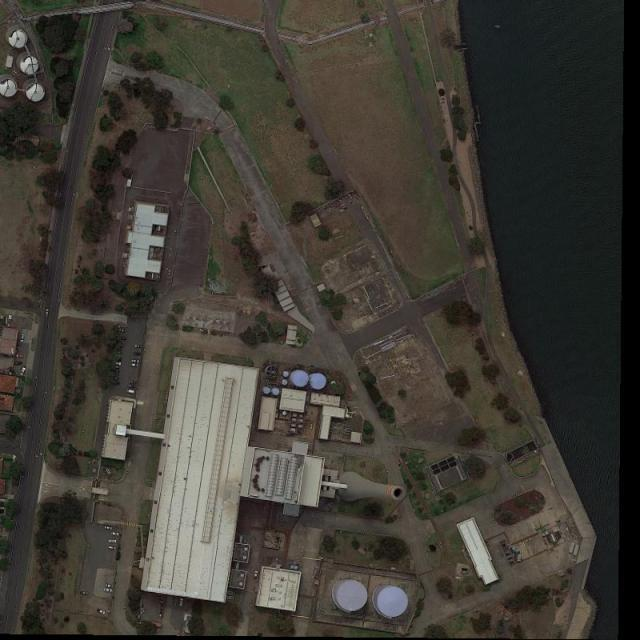vehicle: (19, 367, 26, 377), (97, 609, 106, 615), (128, 380, 138, 385), (127, 384, 137, 389), (104, 526, 114, 531), (108, 538, 118, 543), (254, 570, 259, 579), (179, 598, 184, 606), (16, 354, 26, 358), (126, 390, 136, 394), (107, 546, 117, 550), (104, 588, 113, 592), (118, 329, 127, 333), (134, 344, 143, 348), (134, 353, 143, 357), (106, 584, 115, 588), (112, 533, 120, 537), (80, 592, 90, 595), (46, 308, 49, 318), (21, 334, 24, 342), (132, 360, 140, 362), (132, 364, 140, 366)
